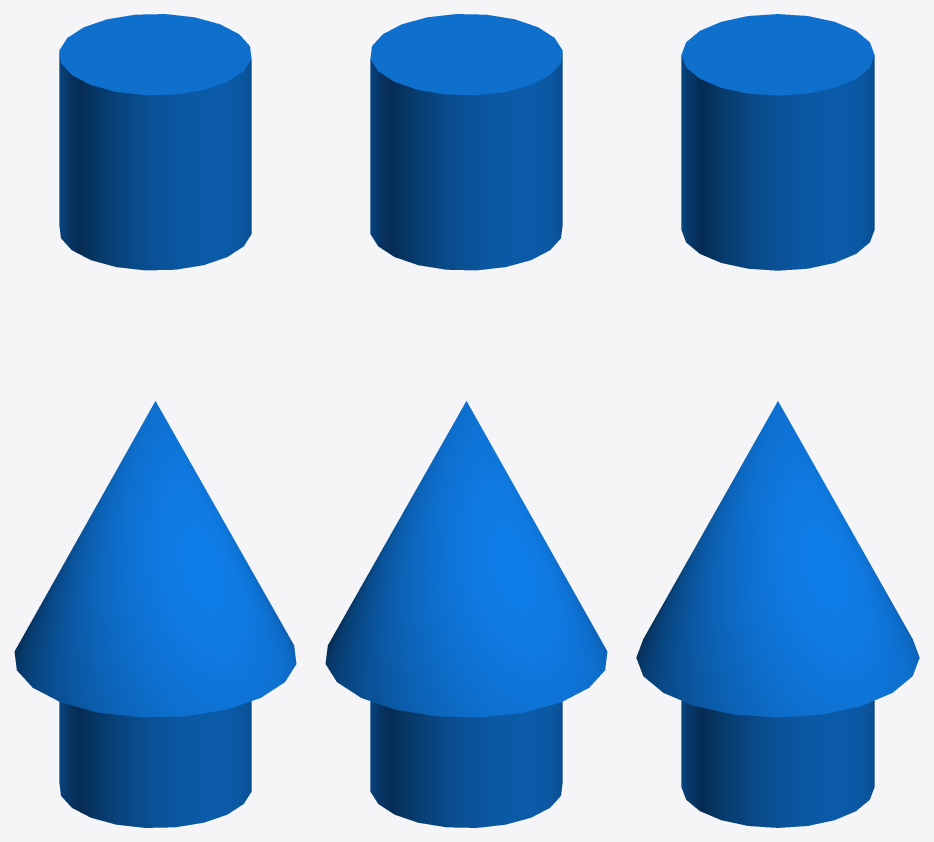
File: ArrowHead.fbx
3 renders of one model, left to right at view 1: azimuth 30°, elevation 25°; view 2: azimuth 150°, elevation 25°; view 3: azimuth 270°, elevation 25°, orthographic.
Visible parts, largest first — view 1: pCone2, pCylinder2; view 2: pCone2, pCylinder2; view 3: pCone2, pCylinder2.
Boxes of the visible parts, bbox=[...] form: pCone2: bbox=[14, 401, 296, 827]; pCylinder2: bbox=[59, 14, 251, 270]; pCone2: bbox=[325, 401, 607, 827]; pCylinder2: bbox=[370, 14, 562, 270]; pCone2: bbox=[636, 401, 919, 827]; pCylinder2: bbox=[681, 14, 874, 270].
Bounding box in the file's own units: 2.2 × 6.27 × 2.2.
